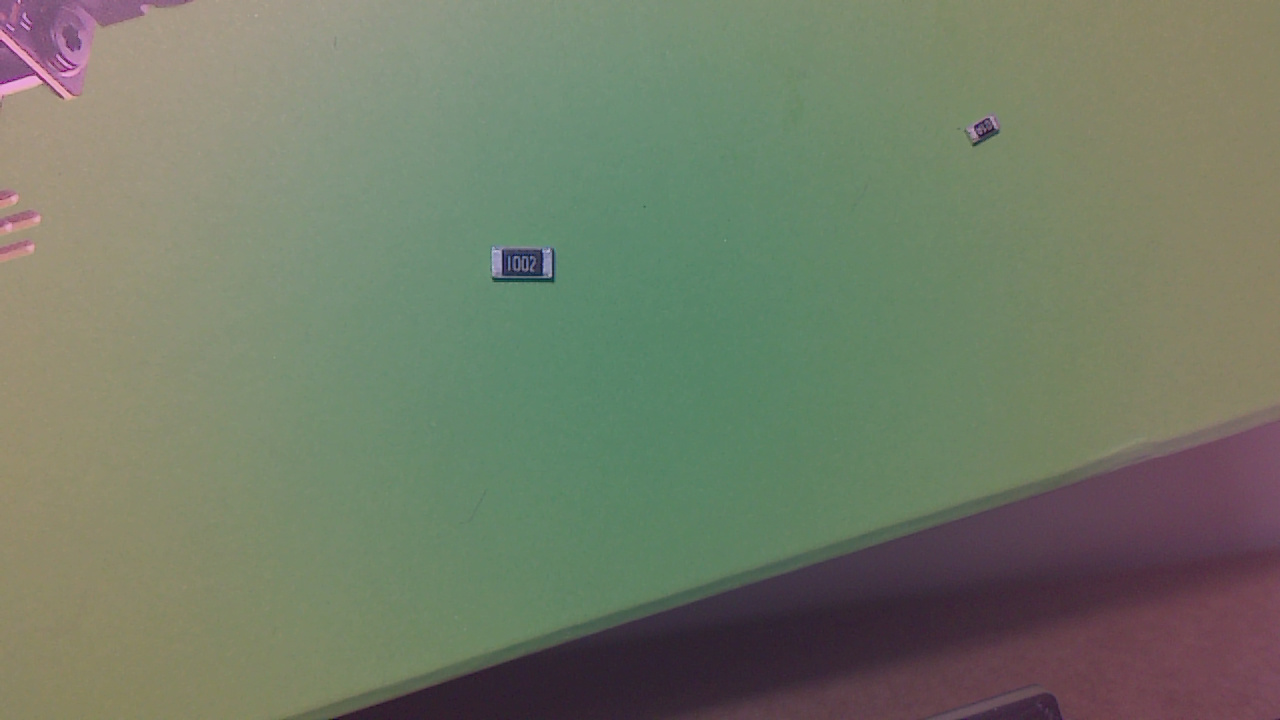Resistor: (494, 250, 561, 287), (968, 119, 1008, 151)
